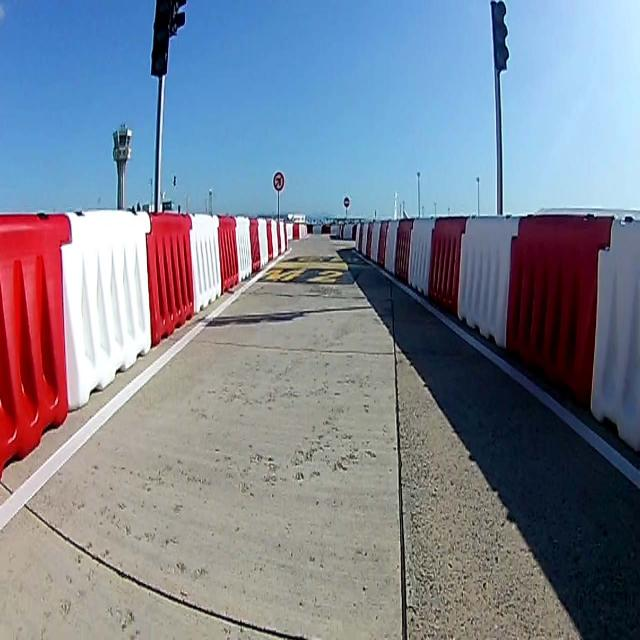soladonulmez: (274, 172, 284, 191)
